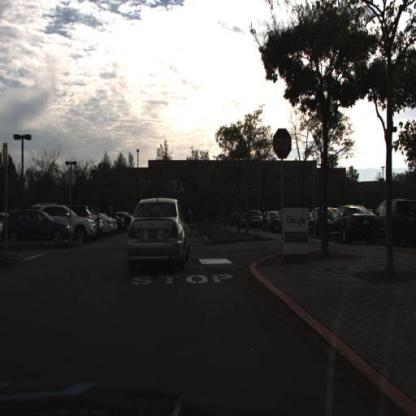car: (126, 195, 192, 270), (2, 208, 73, 244), (324, 202, 378, 245), (374, 197, 415, 240), (72, 208, 96, 236)
